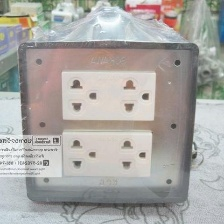three_eye_plug: (21, 35, 205, 209)
